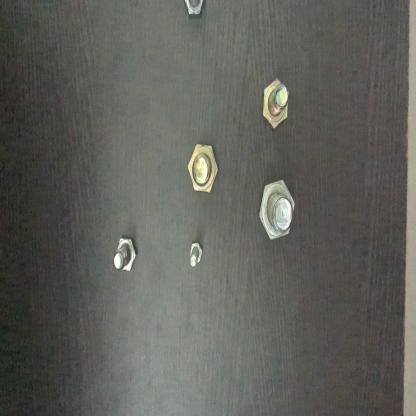Bolts: (257, 170, 295, 247), (180, 136, 220, 201), (258, 73, 292, 130), (108, 232, 141, 282), (184, 238, 208, 274)
